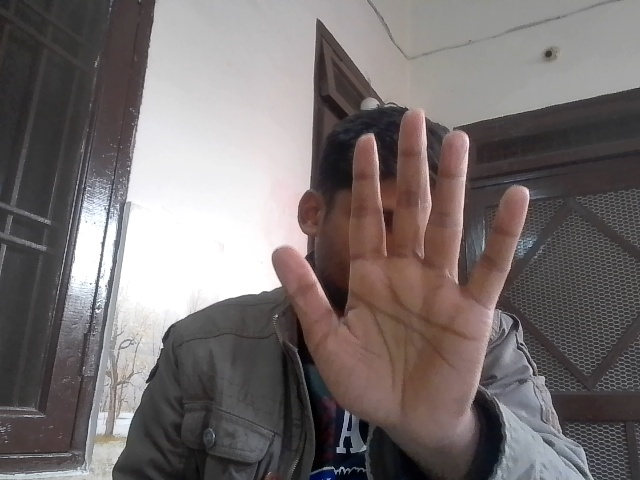Hello: (266, 99, 541, 451)
